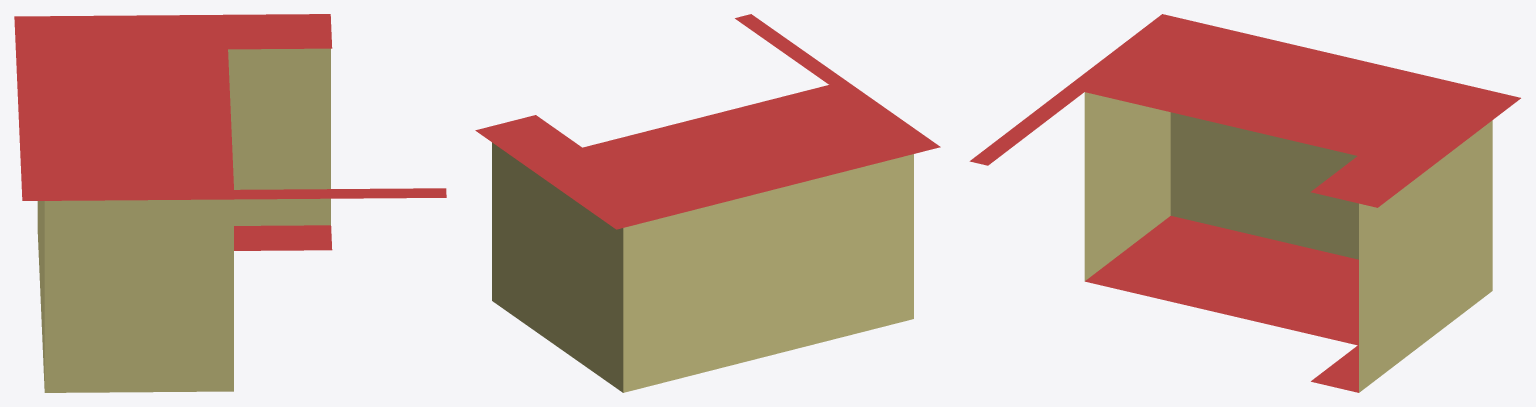
3 views of the same model, side by side, from view 1: azimuth 30°, elevation 25°; view 2: azimuth 150°, elevation 25°; view 3: azimuth 270°, elevation 25° (orthographic). The views are drawn at different scales.
Bounding box in the file's own units: 16.09 × 19.37 × 7.33.
